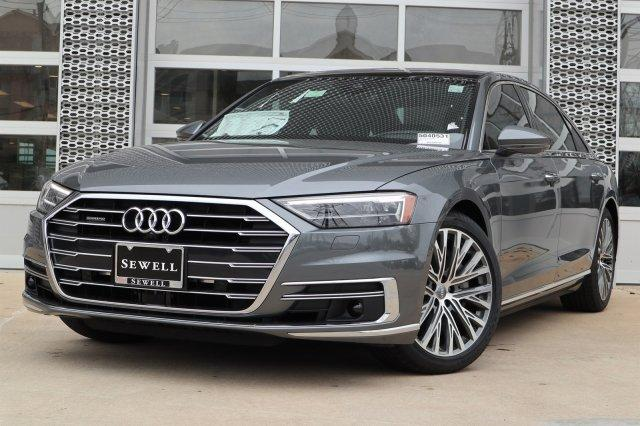audi: (117, 204, 190, 237)
